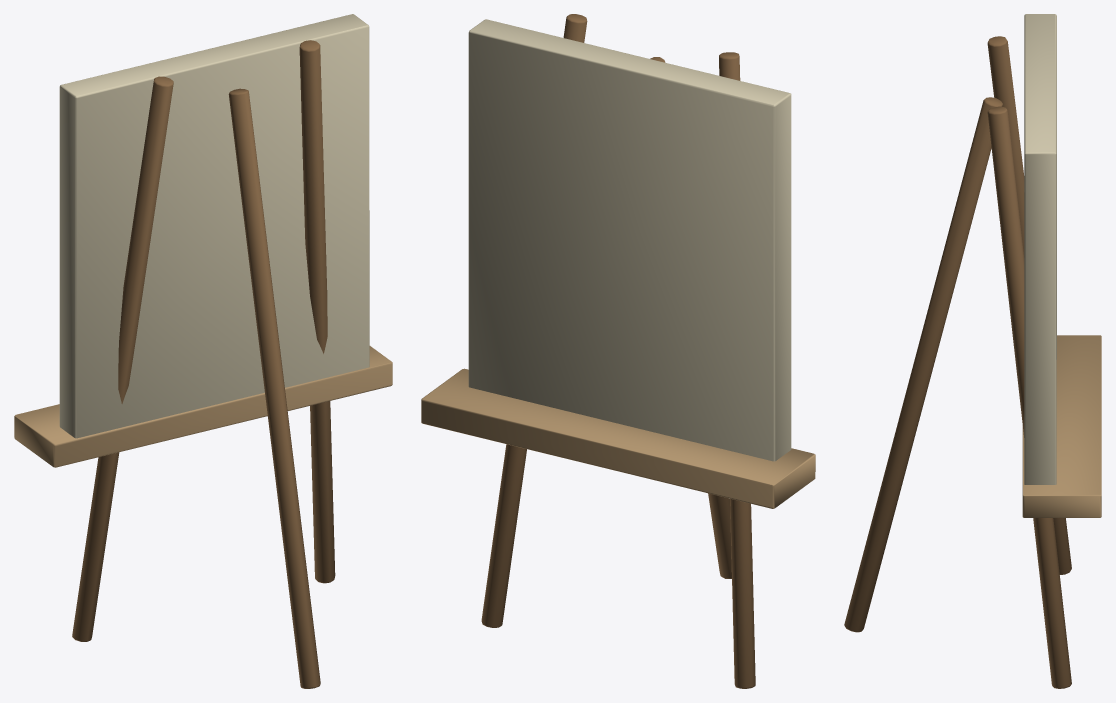
Rendered from easel.glb.
3 renders of one model, left to right at view 1: azimuth 30°, elevation 25°; view 2: azimuth 150°, elevation 25°; view 3: azimuth 270°, elevation 25°, orthographic. The views are drawn at different scales.
Size of the model in its own units: 1.06 by 1.71 by 0.7172.
